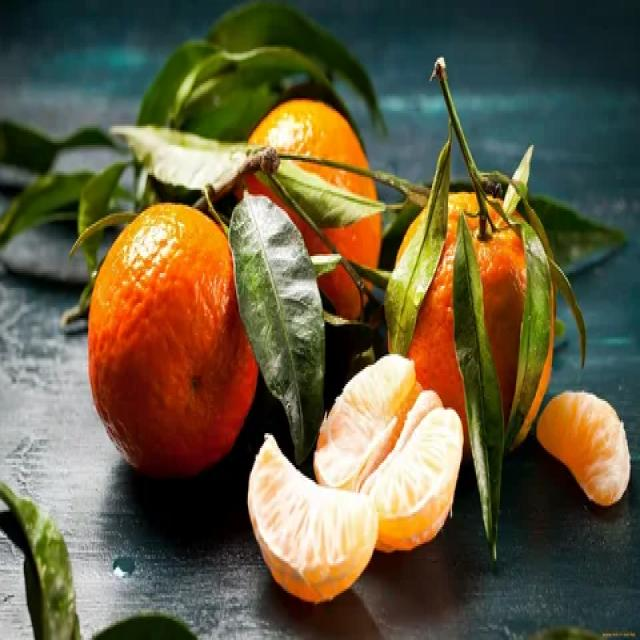orange: (78, 200, 271, 489)
